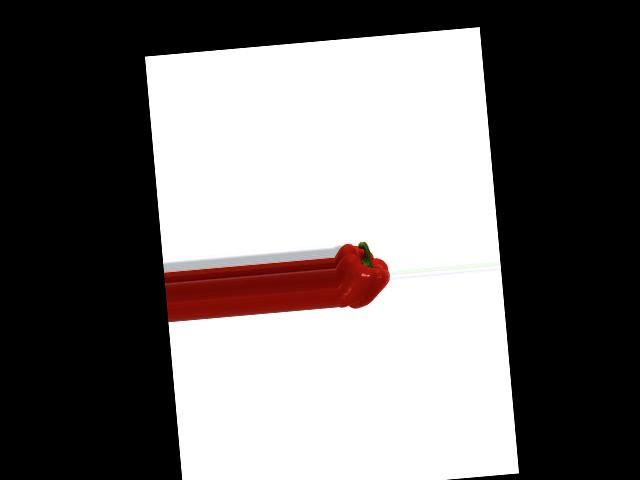bell_pepper: (332, 230, 393, 317)
